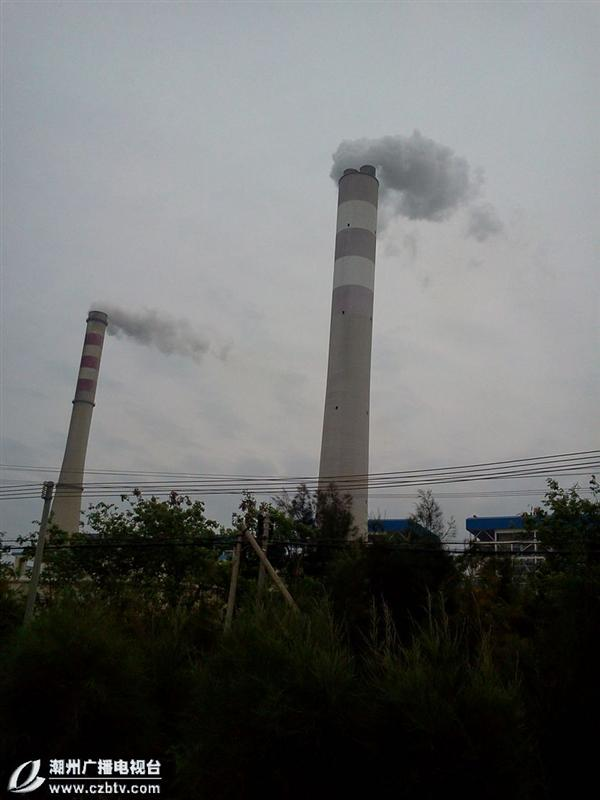dust: (325, 117, 485, 226), (76, 266, 219, 372)
